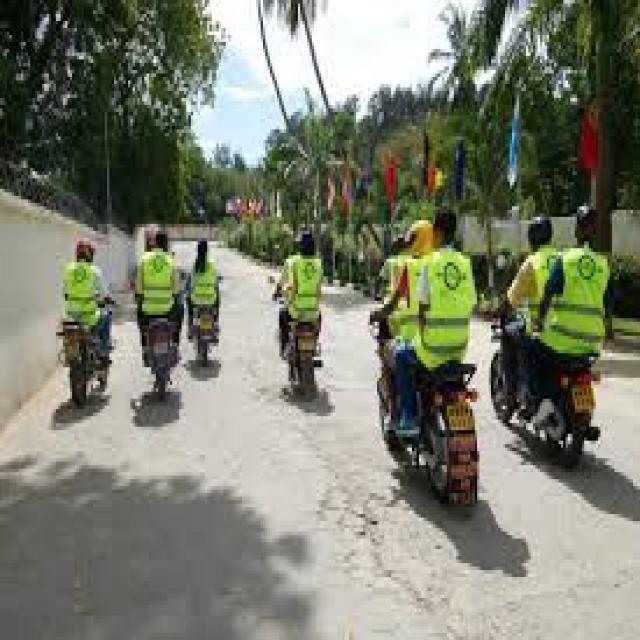bodaboda: (492, 276, 627, 512), (363, 285, 490, 528), (35, 193, 121, 405), (114, 260, 200, 403), (258, 273, 342, 413)
